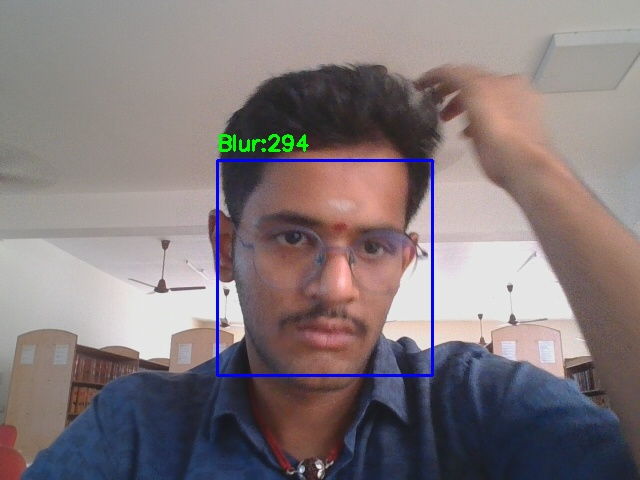real: (217, 160, 432, 375)
